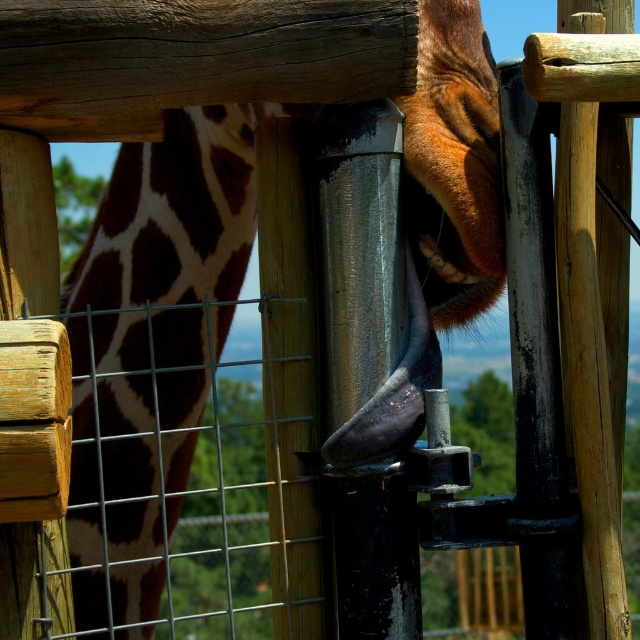Giraffe: (55, 0, 501, 640)
